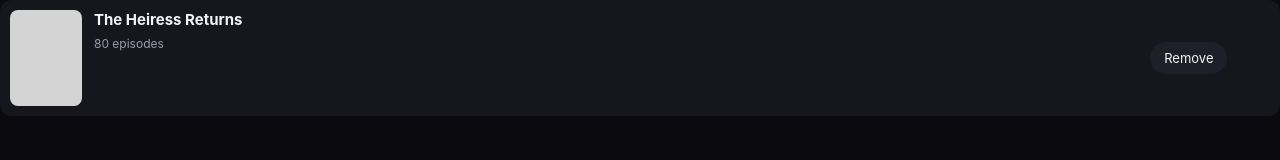
Test case: a favourite write that failed › explains a withdrawn drama on the undo and offers no retry
Click the button with test id "favorite-remove": [1189, 58] box [1150, 42, 1227, 74]
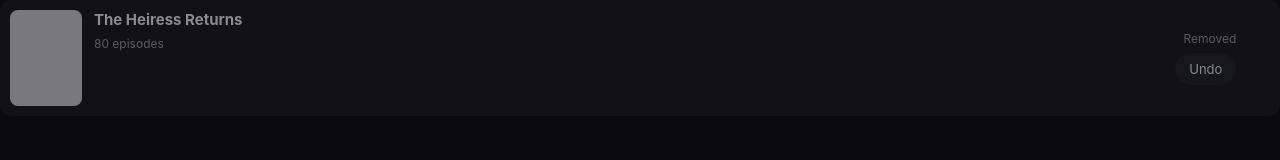
Click the button with test id "favorite-undo": [1206, 69] box [1175, 53, 1236, 85]
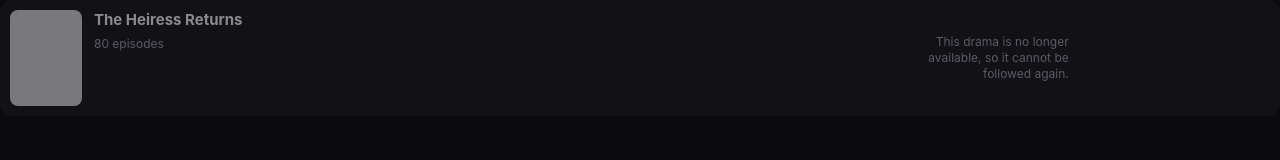
Expected: the message with test id "favorite-row-note" shows "no longer available", [928, 34, 1069, 81]
